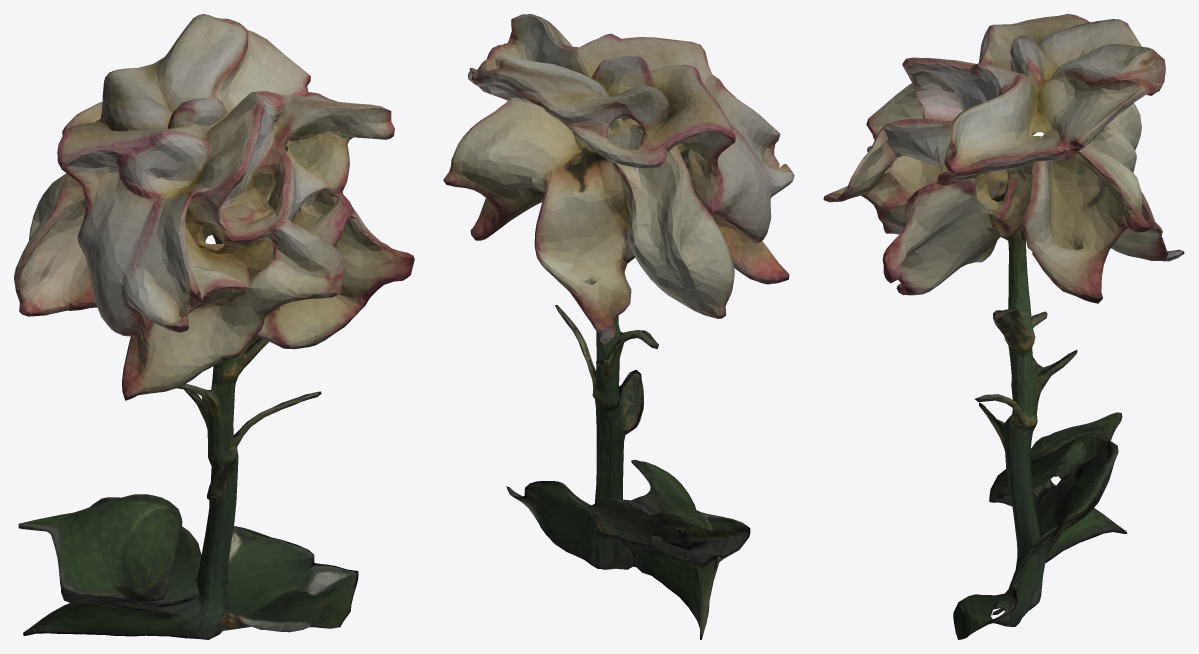
3 renders of one model, left to right at view 1: azimuth 30°, elevation 25°; view 2: azimuth 150°, elevation 25°; view 3: azimuth 270°, elevation 25°, orthographic. The views are drawn at different scales.
Visible parts, largest first — view 1: world; view 2: world; view 3: world.
Part boxes in pixels (<box>): world: <box>14,14,414,639</box>; world: <box>443,14,794,639</box>; world: <box>823,14,1184,639</box>.
Size of the model in its own units: 0.551 by 0.9696 by 0.5483.
Materials: 1 (1 with a texture image).
